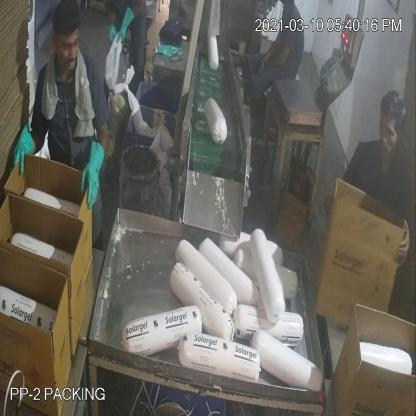glove: (76, 133, 112, 219), (12, 118, 39, 184), (116, 6, 136, 49)
no_glove: (256, 37, 296, 83)
